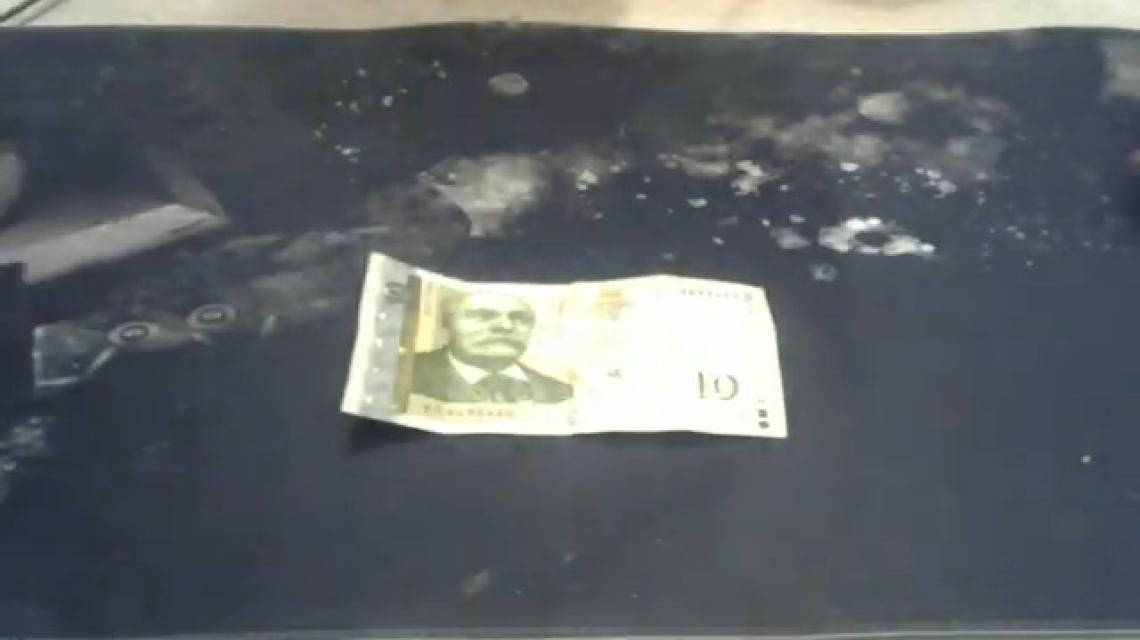10leva: (338, 254, 791, 443)
